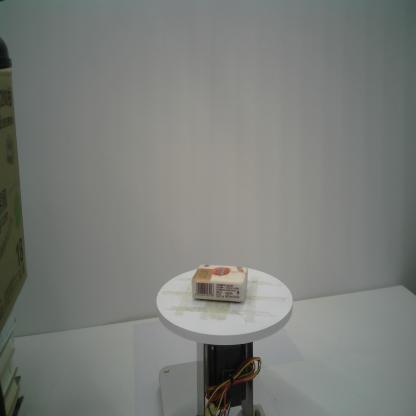Tissue: (191, 263, 249, 304)
